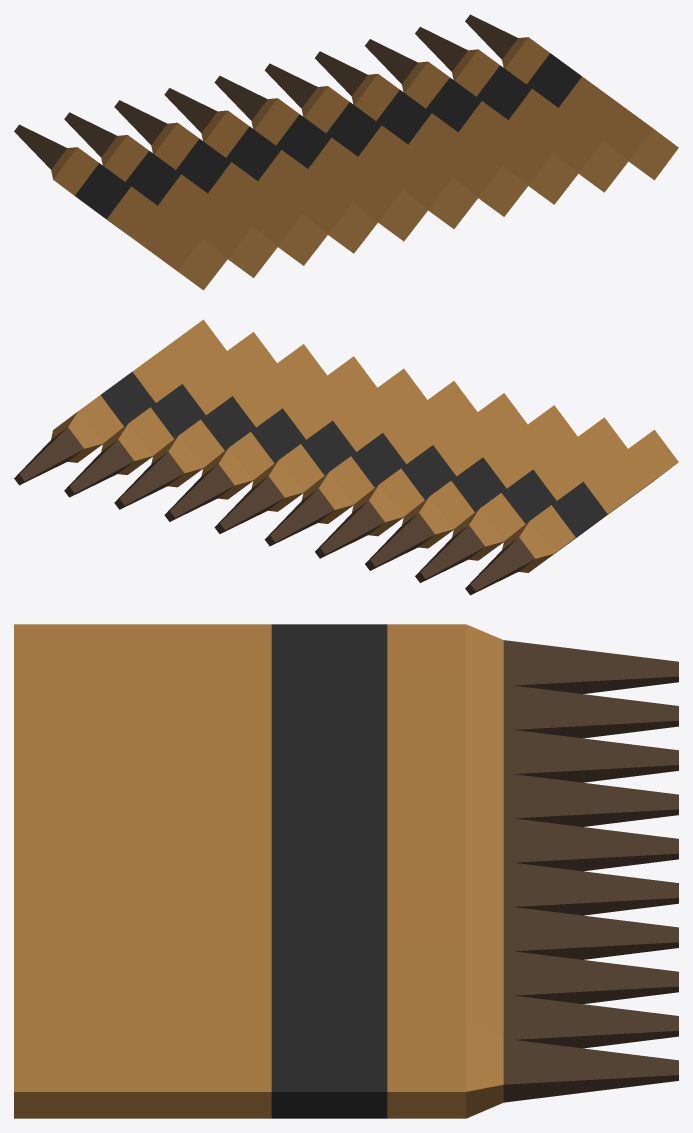
File: weapons-bullets-50mm.glb
3 renders of one model, top to bottom at view 1: azimuth 30°, elevation 25°; view 2: azimuth 150°, elevation 25°; view 3: azimuth 270°, elevation 25°, orthographic. The views are drawn at different scales.
Parts seen in each view (by area): view 1: bullets-50mm; view 2: bullets-50mm; view 3: bullets-50mm.
Boxes of the visible parts, x1,y1,x2,y2 form: bullets-50mm: (14,14,678,290); bullets-50mm: (14,319,678,595); bullets-50mm: (14,624,678,1118).
Bounding box in the file's own units: 0.2151 × 0.0215 × 0.1365.
